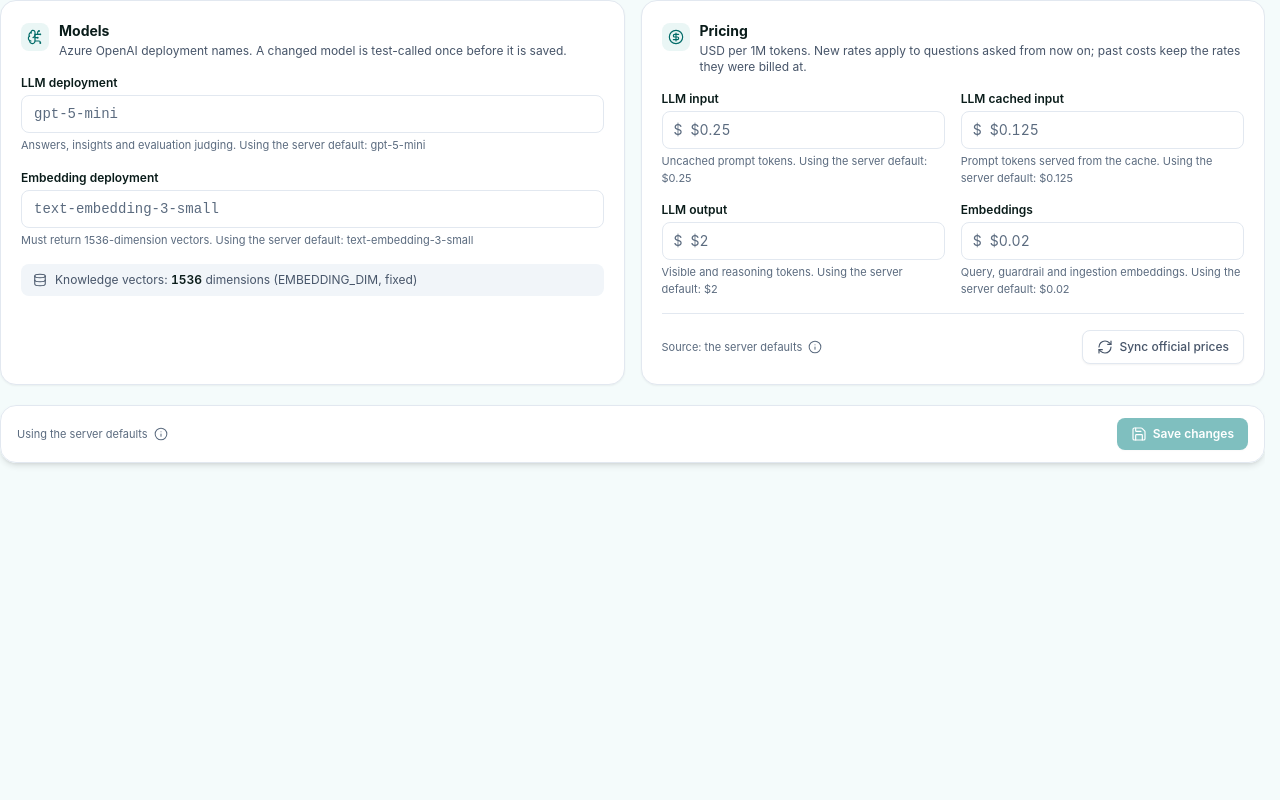
Scenario: Settings → Models & Pricing › shows the .env values as placeholders and saves a price override
Expected: the text "1536" is shown, [171,272,202,287]
Expected: the button "Save changes" is disabled, [1117,418,1248,450]
Type "3" into the number field labelled "LLM output" at (803, 241), box [662,222,945,260]
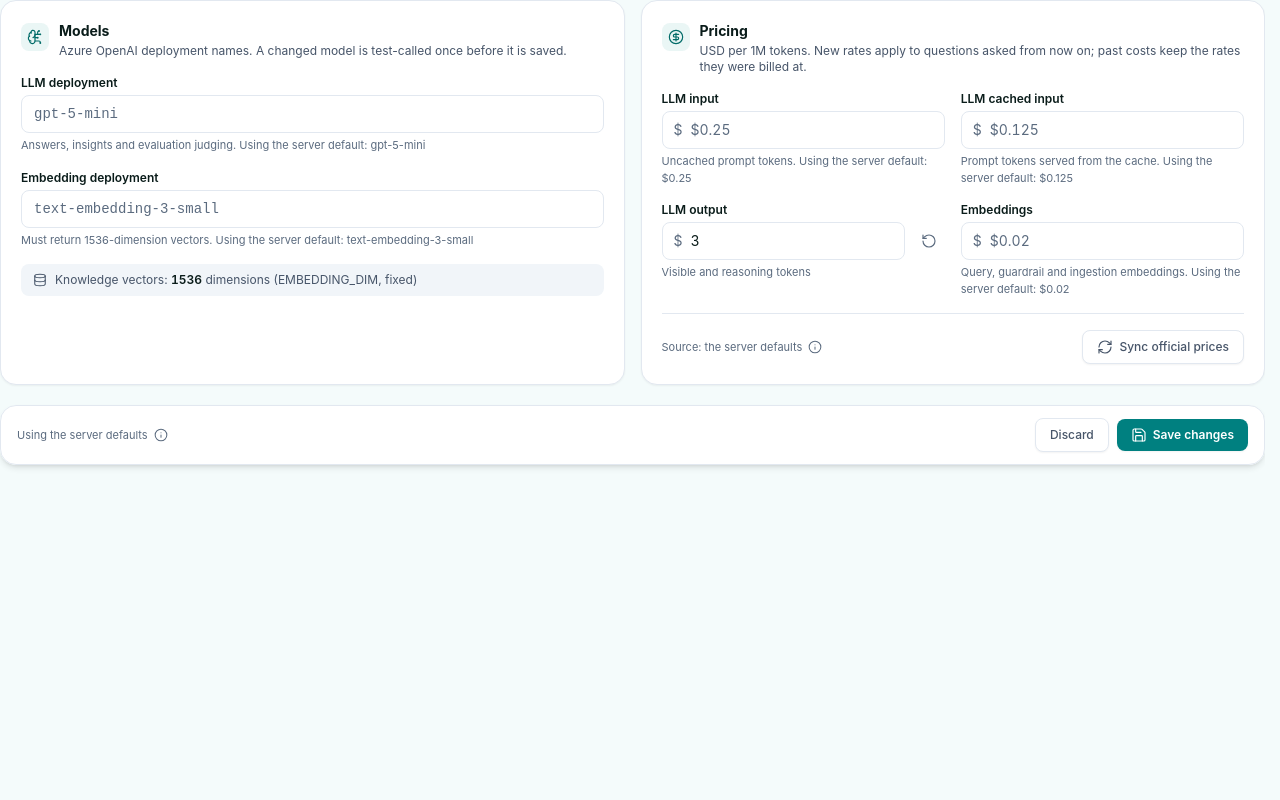
Click the button "Save changes" at (1182, 435), box [1117,419,1248,451]
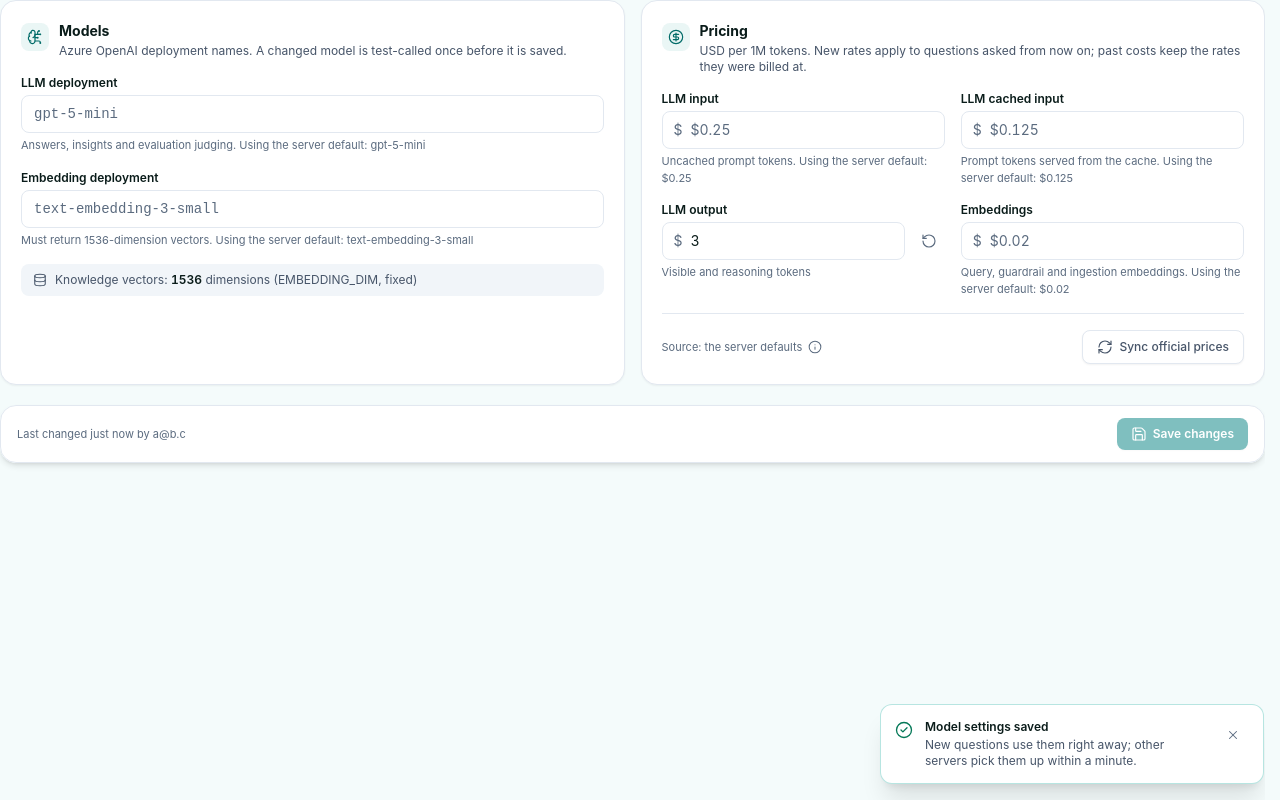
Expected: the text "Last changed just now by a@b.c" is shown, [17,426,186,442]
